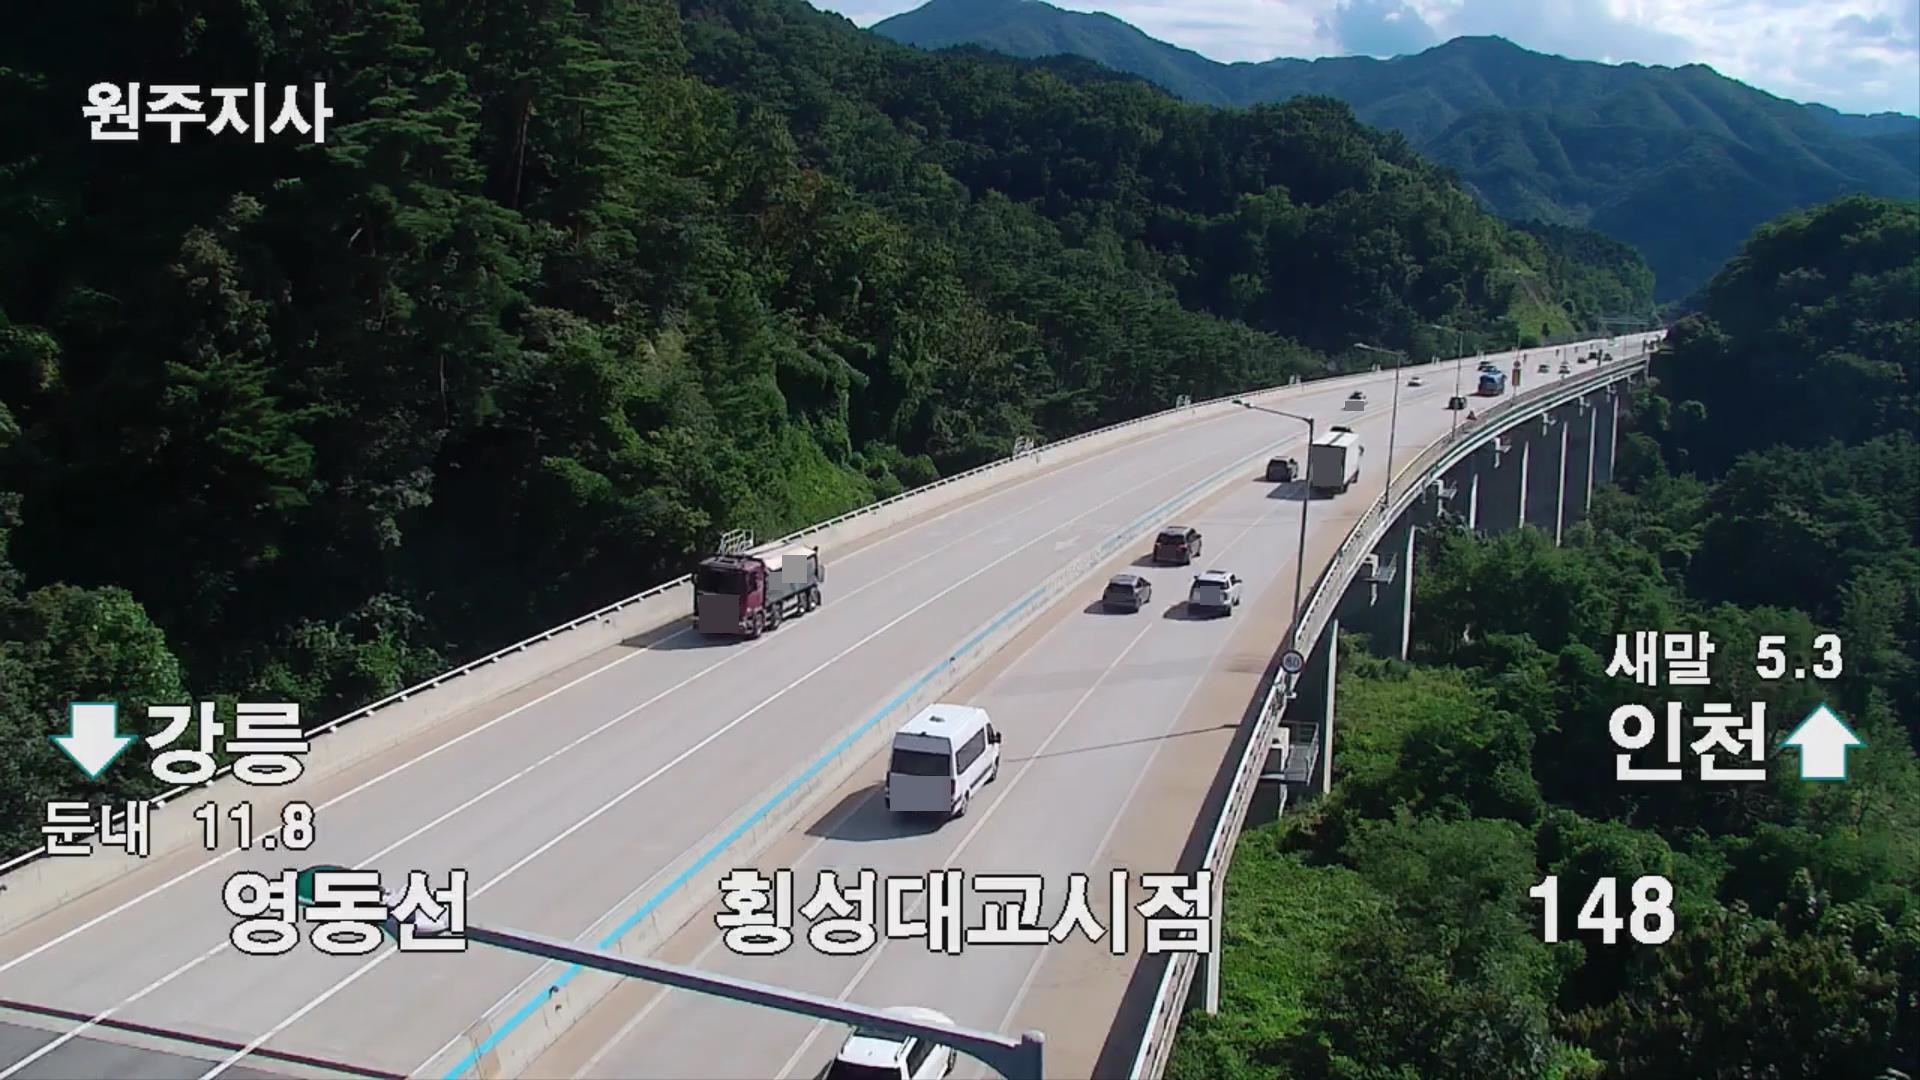정상차량: (691, 539, 824, 637)
